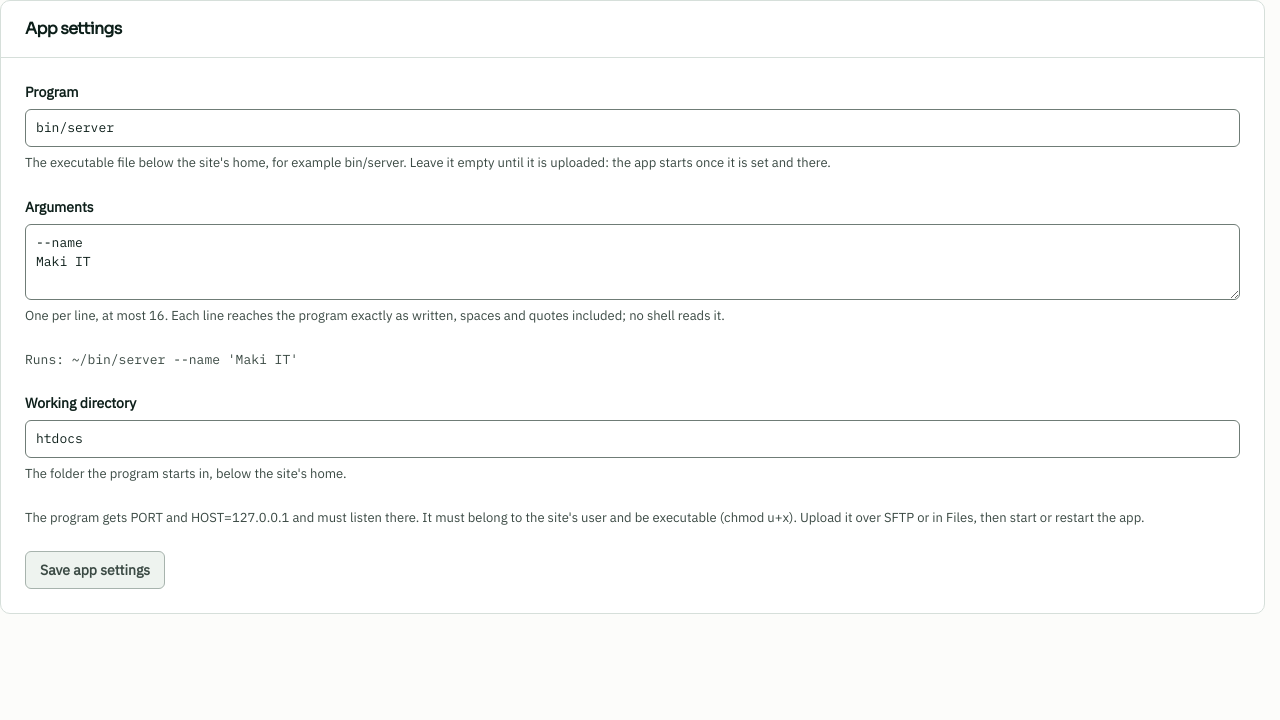
Test case: ProgramSettingsCard › refuses a program outside the home before sending
The image size is (1280, 720).
Type "/usr/bin/env" into the field labelled "Program" at coordinates (632, 128), box [25,109,1240,147]
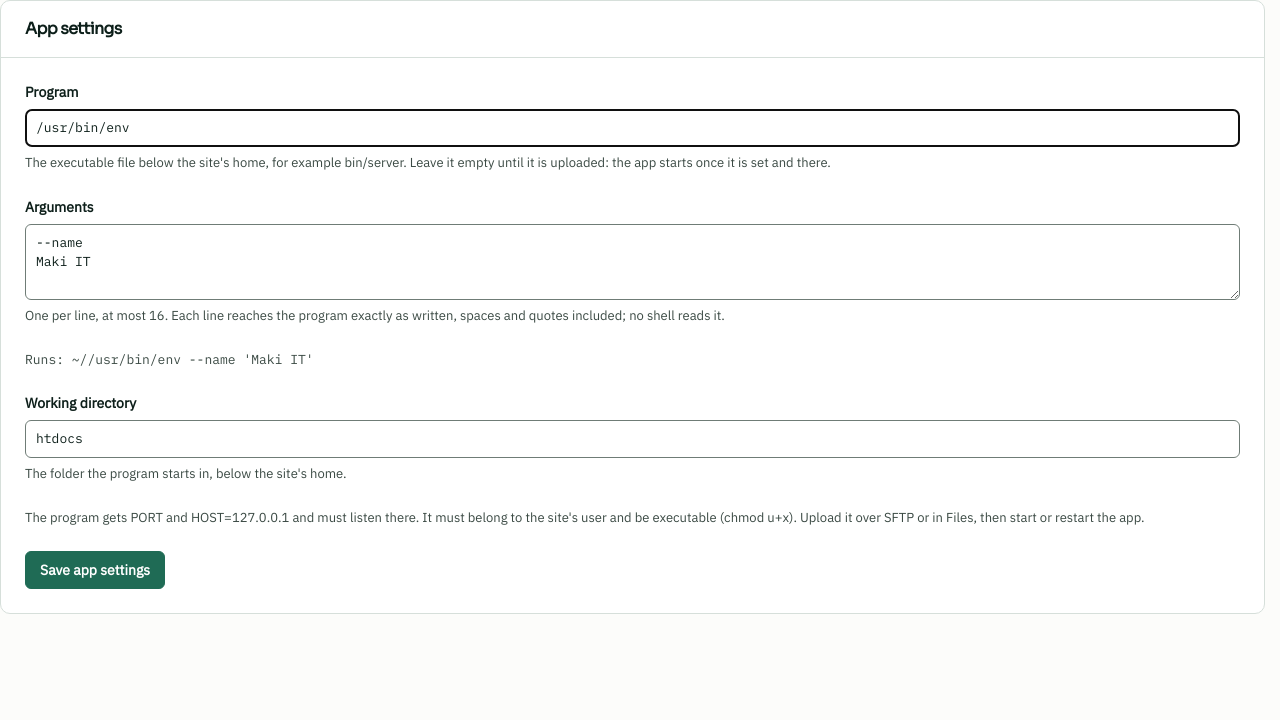
Click the button "Save app settings" at coordinates (95, 570), box [25,551,165,589]
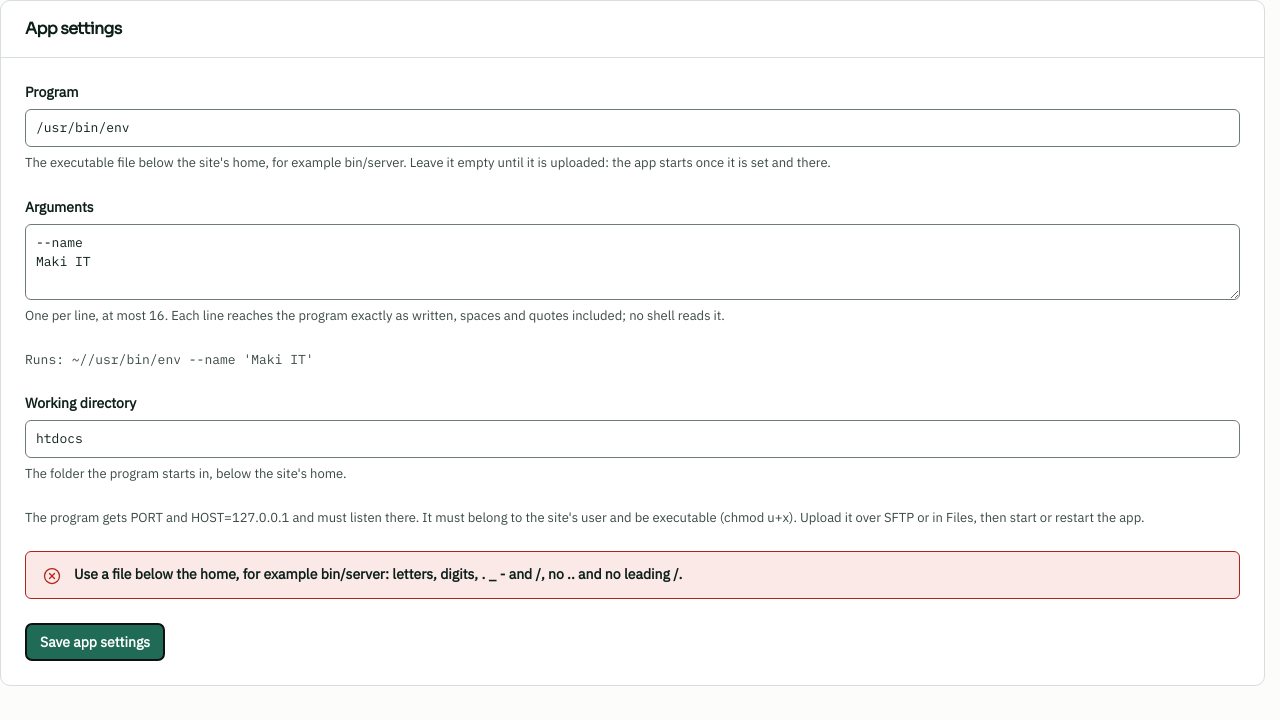
Expected: the text "Use a file below the home" is shown, [74,565,682,583]
